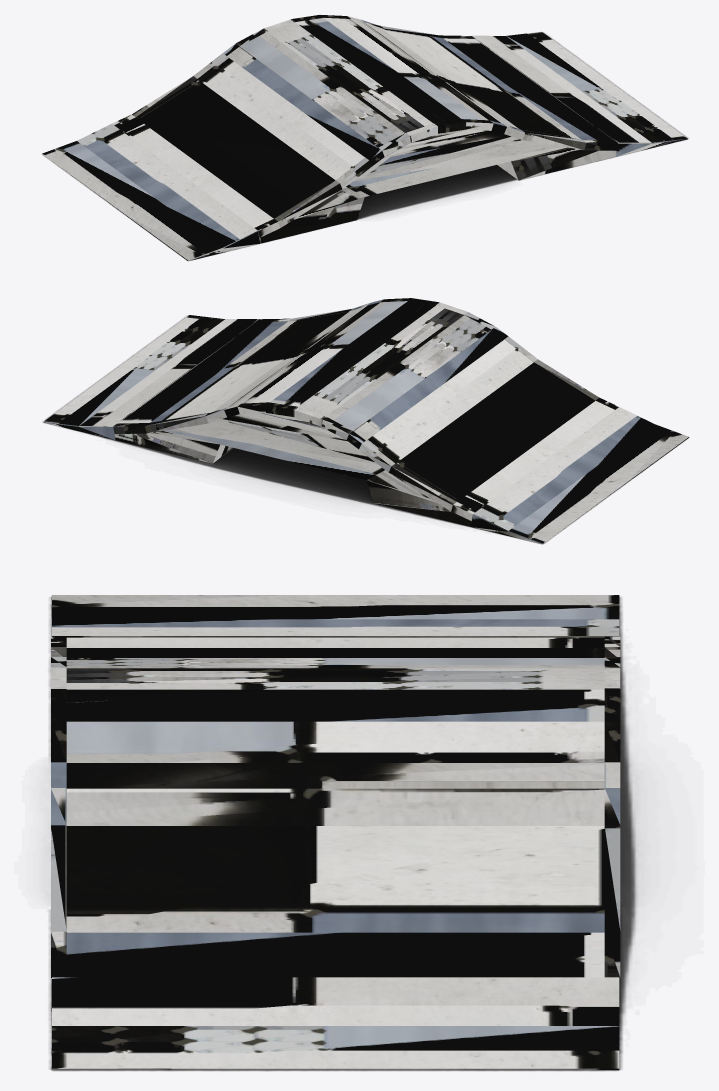
Rendered from wave-welle.gltf.
3 views of the same model, one above another, from view 1: azimuth 30°, elevation 25°; view 2: azimuth 150°, elevation 25°; view 3: azimuth 270°, elevation 25° (orthographic). The views are drawn at different scales.
Visible parts, largest first — view 1: SK0014_Wave-Welle.001, Schatten; view 2: SK0014_Wave-Welle.001, Schatten; view 3: SK0014_Wave-Welle.001, Schatten.
Part boxes in pixels (box(x1,y1,x2,y2)): SK0014_Wave-Welle.001: box(42, 15, 687, 261); Schatten: box(42, 32, 688, 260); SK0014_Wave-Welle.001: box(43, 298, 688, 544); Schatten: box(43, 315, 688, 543); SK0014_Wave-Welle.001: box(51, 595, 620, 1070); Schatten: box(49, 596, 637, 1071).
Bounding box in the file's own units: 2.53 × 0.35 × 1.52.
4 materials, 4 textured.
